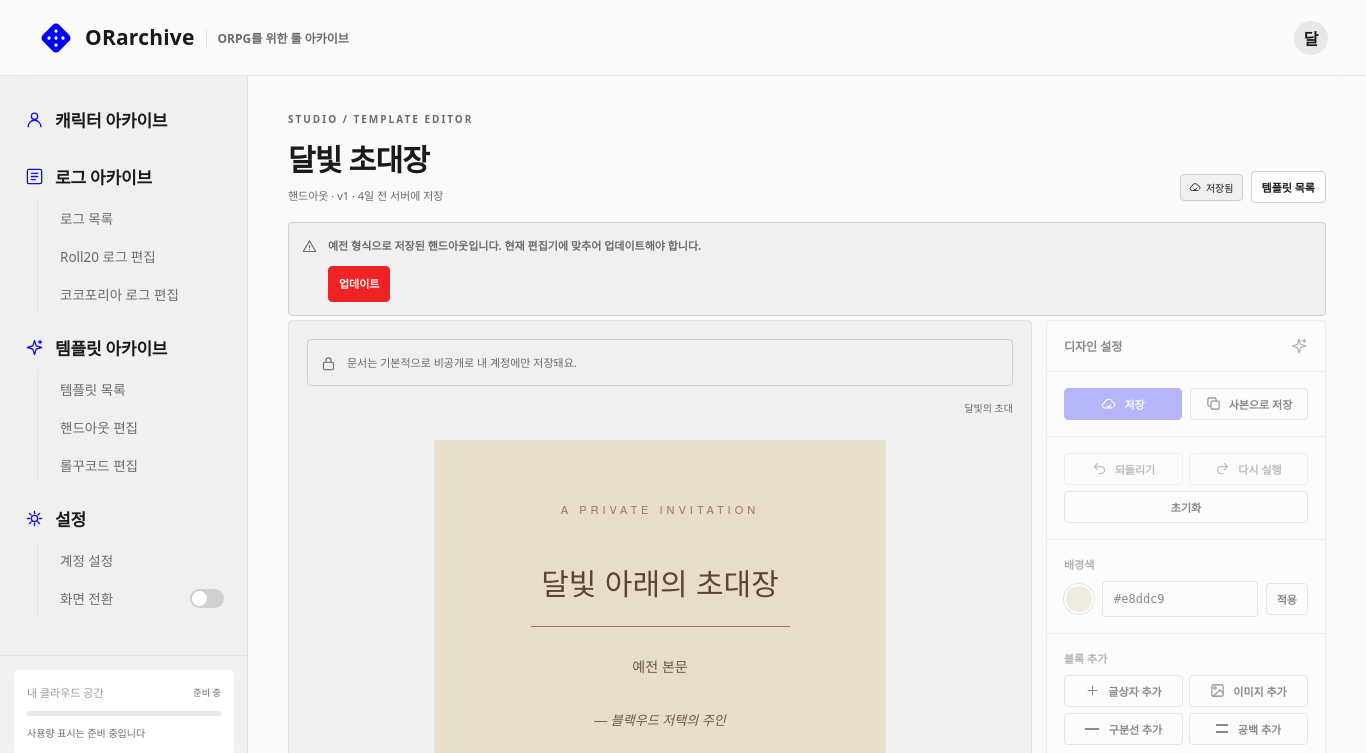
Scenario: 핸드아웃 스튜디오 — 캔버스 직접 편집 › Phase 1 의 { text } 핸드아웃: 안내와 함께 읽기 전용으로 보여 주고, 업데이트하면 지금 형식으로 저장한 뒤 편집할 수 있다
The width and height of the screenshot is (1366, 753).
Check: the message "예전 형식으로 저장된 핸드아웃입니다. 현재 편집기에 맞추어 업데이트해야 합니다. 업데이트" is shown, box [288,222,1326,316]
Check: the element named "핸드아웃 캔버스" shows "예전 본문", box [632,656,688,676]
Click the button "업데이트": (359, 284) [328,266,390,302]
Wait 800 ms
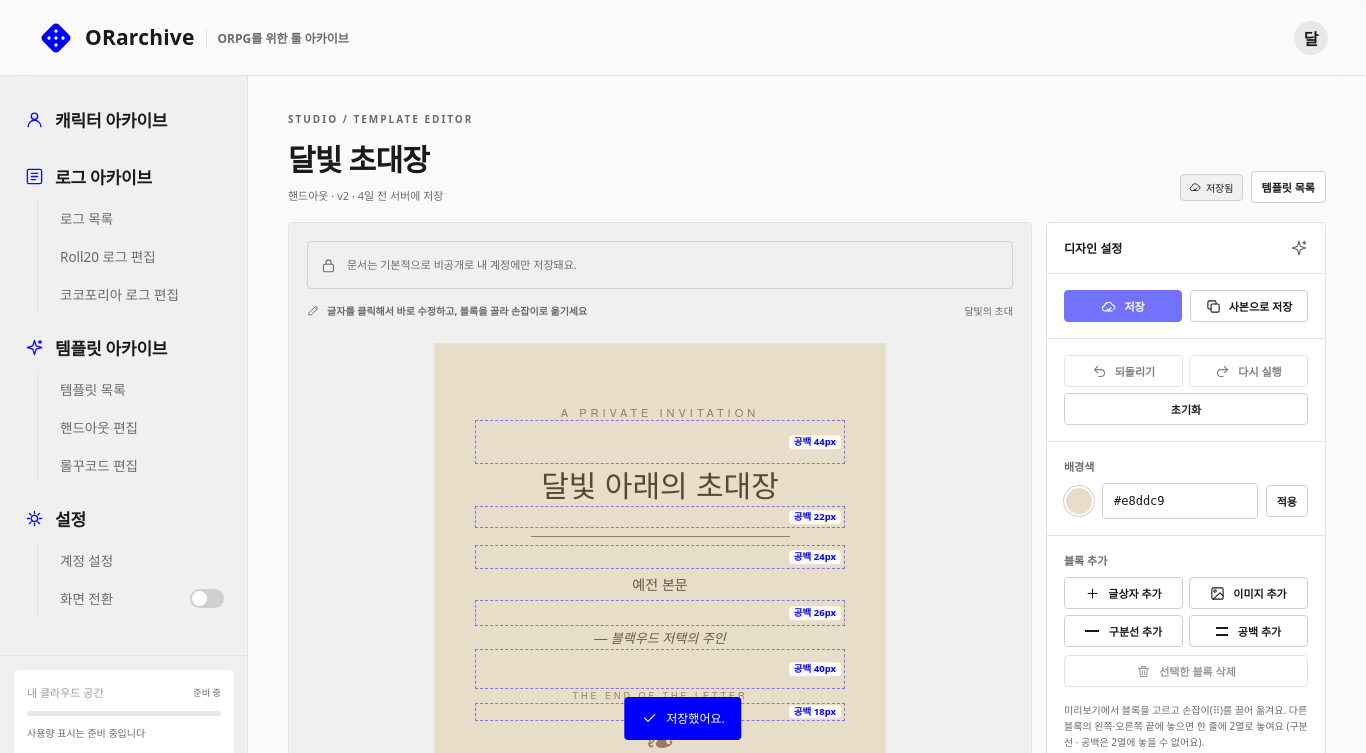
Check: the text box labelled "예전 본문" is shown, box [632,574,688,594]
Check: the text "예전 형식으로 저장된 핸드아웃입니다" is gone
Check: the text "글자를 클릭해서 바로 수정하고, 블록을 골라 손잡이로 옮기세요" is shown, box [307,303,587,318]
